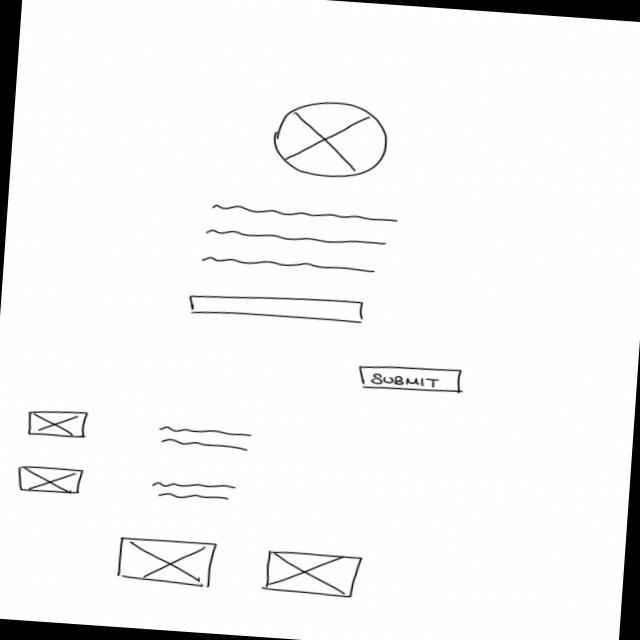button: (356, 359, 466, 398)
image: (268, 95, 393, 183), (113, 534, 220, 588), (262, 548, 366, 599), (15, 462, 85, 498), (25, 406, 91, 440)
input: (188, 287, 368, 327)
textbox: (197, 202, 401, 277), (154, 423, 258, 452), (150, 477, 240, 504)
